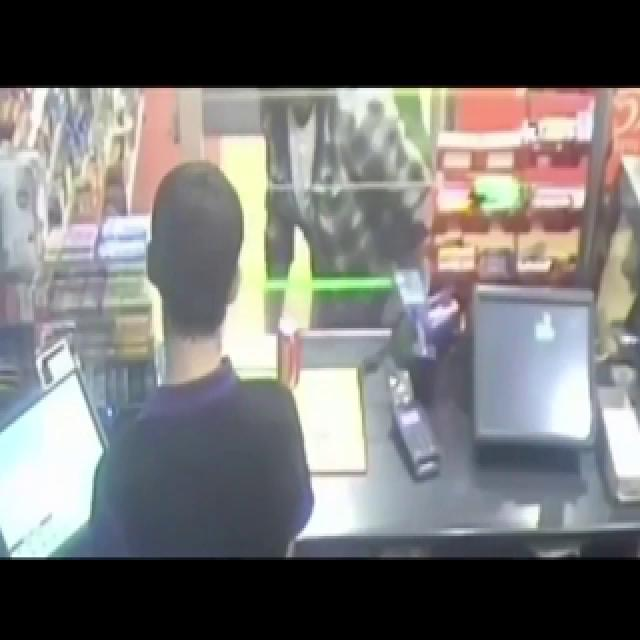robbery: (150, 114, 475, 438)
